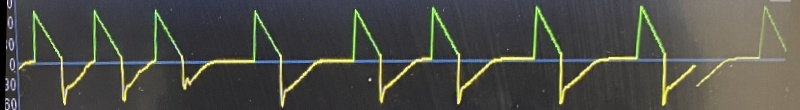normal_flow: (21, 0, 699, 110)
